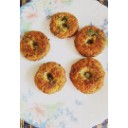vada: (71, 59, 103, 93), (36, 62, 65, 92), (76, 25, 104, 56), (22, 32, 49, 58), (51, 12, 78, 35)
